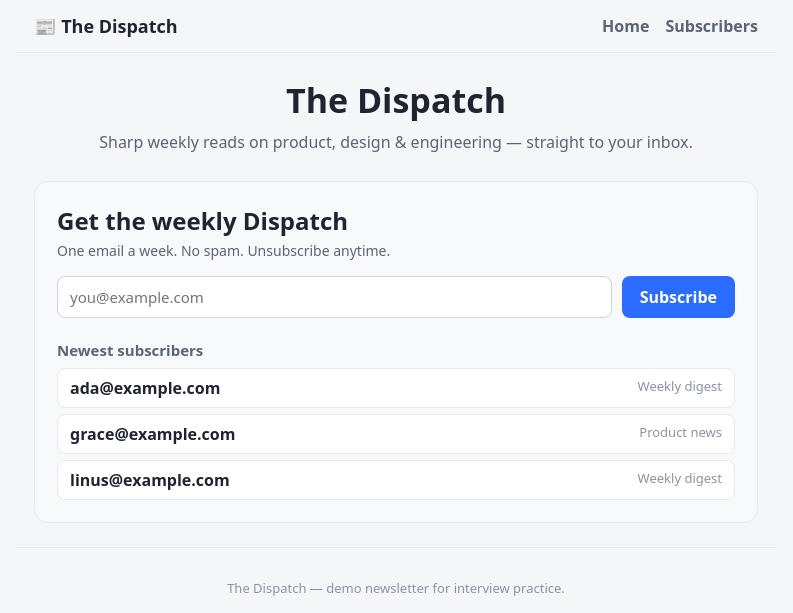
Test: m08 · NewsletterSignup — form submit (preventDefault) › navigates to the Subscribers page
What coordinates should you click on to do the following:
click the link with test id "nav-subscribers"
I would click on:
 (712, 26)
Its box is [665,15,758,37].
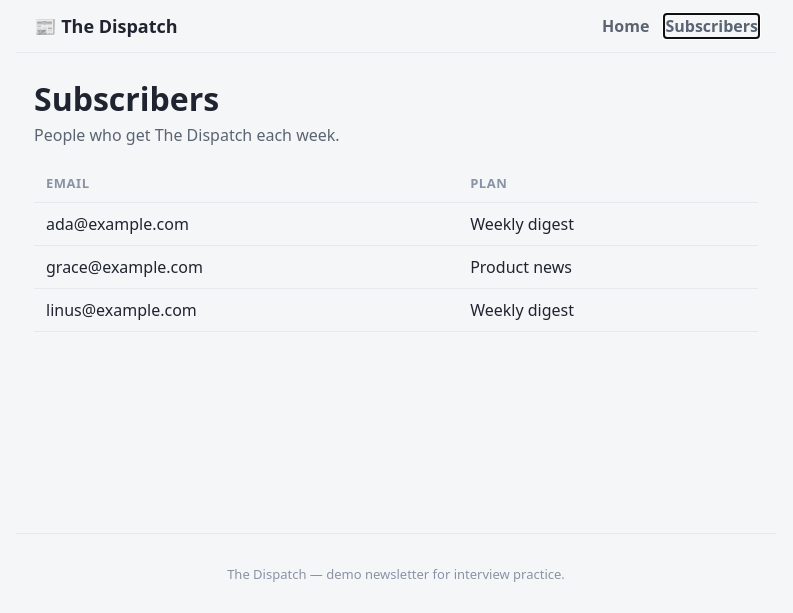
Expected: the element with test id "subscribers-page" is shown, [34,77,758,332]
